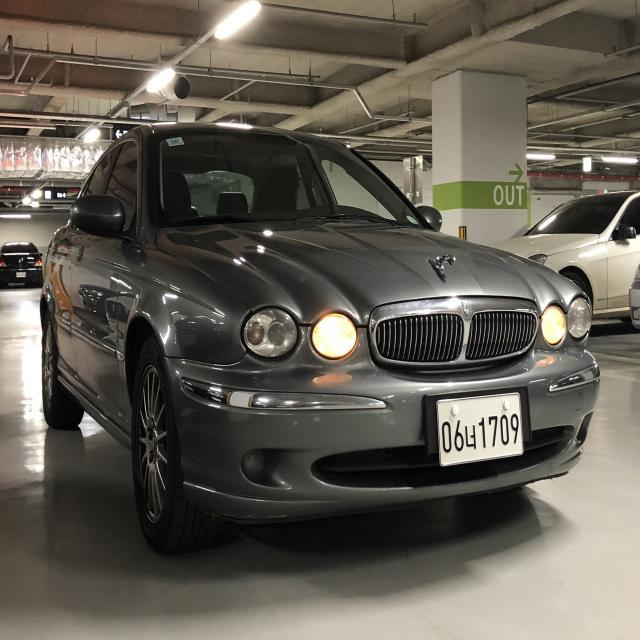car: (420, 380, 533, 480)
